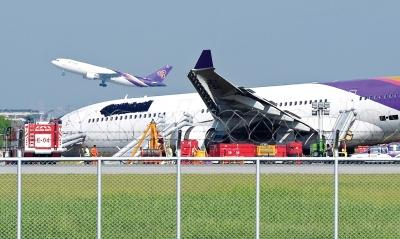airplane: (49, 56, 177, 91)
